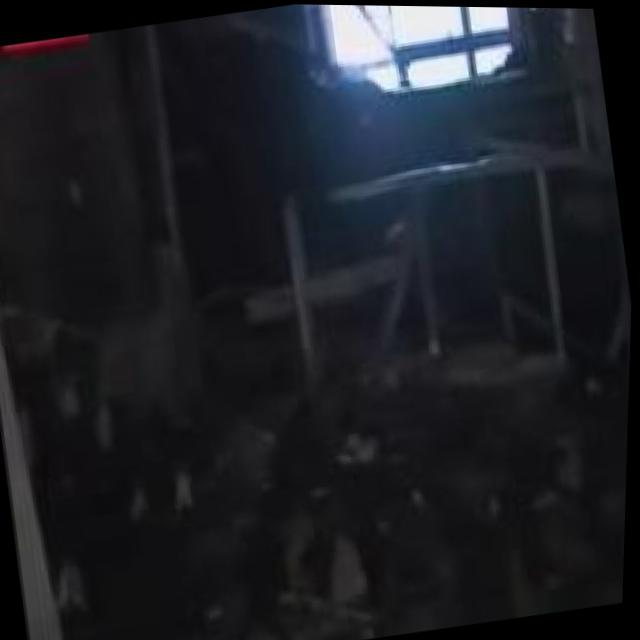fire: (384, 179, 636, 496)
